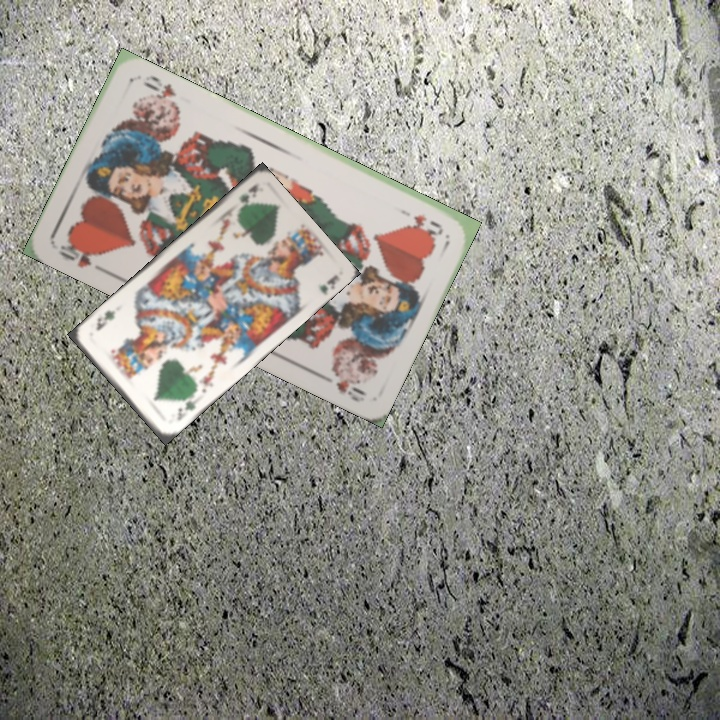GK: (233, 180, 261, 214), (172, 393, 200, 423)
HO: (53, 236, 107, 275), (396, 205, 446, 238)
